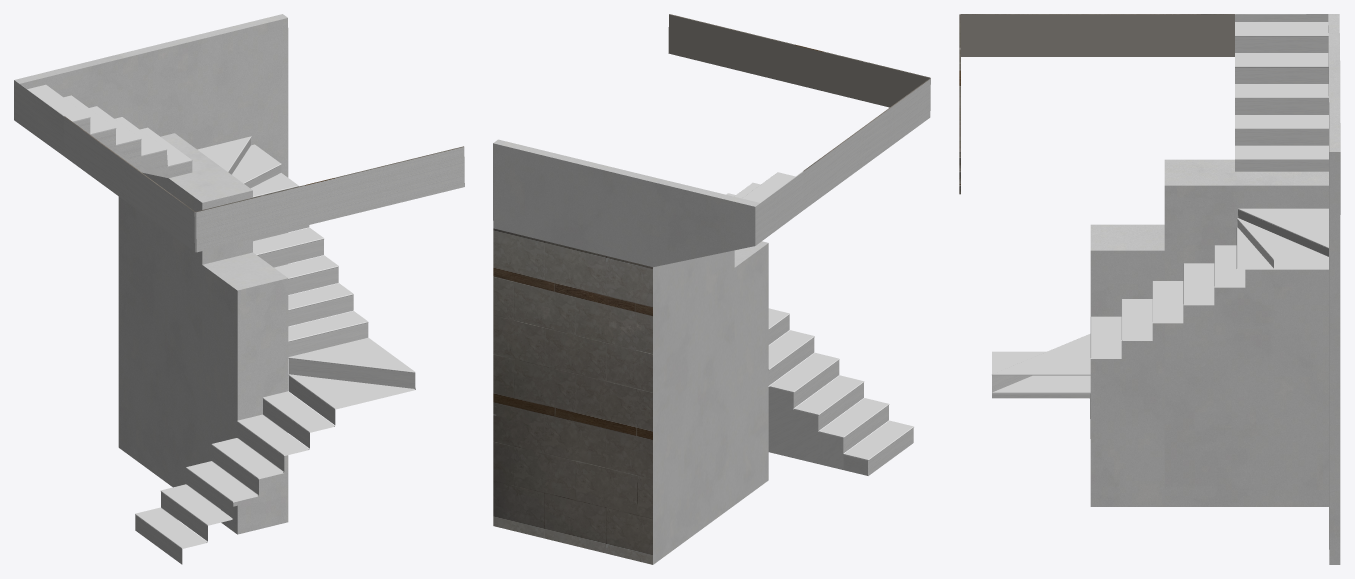
The model's file is Stair_Wall2.fbx.
3 views of the same model, side by side, from view 1: azimuth 30°, elevation 25°; view 2: azimuth 150°, elevation 25°; view 3: azimuth 270°, elevation 25° (orthographic). The views are drawn at different scales.
Parts seen in each view (by area): view 1: Stair_Wall2; view 2: Stair_Wall2; view 3: Stair_Wall2.
Boxes of the visible parts, left/top/right/bottom form: Stair_Wall2: left=14, top=14, right=464, bottom=564; Stair_Wall2: left=493, top=14, right=930, bottom=564; Stair_Wall2: left=959, top=14, right=1340, bottom=564.
Size of the model in its own units: 265 by 370 by 309.
3 materials, 2 textured.
